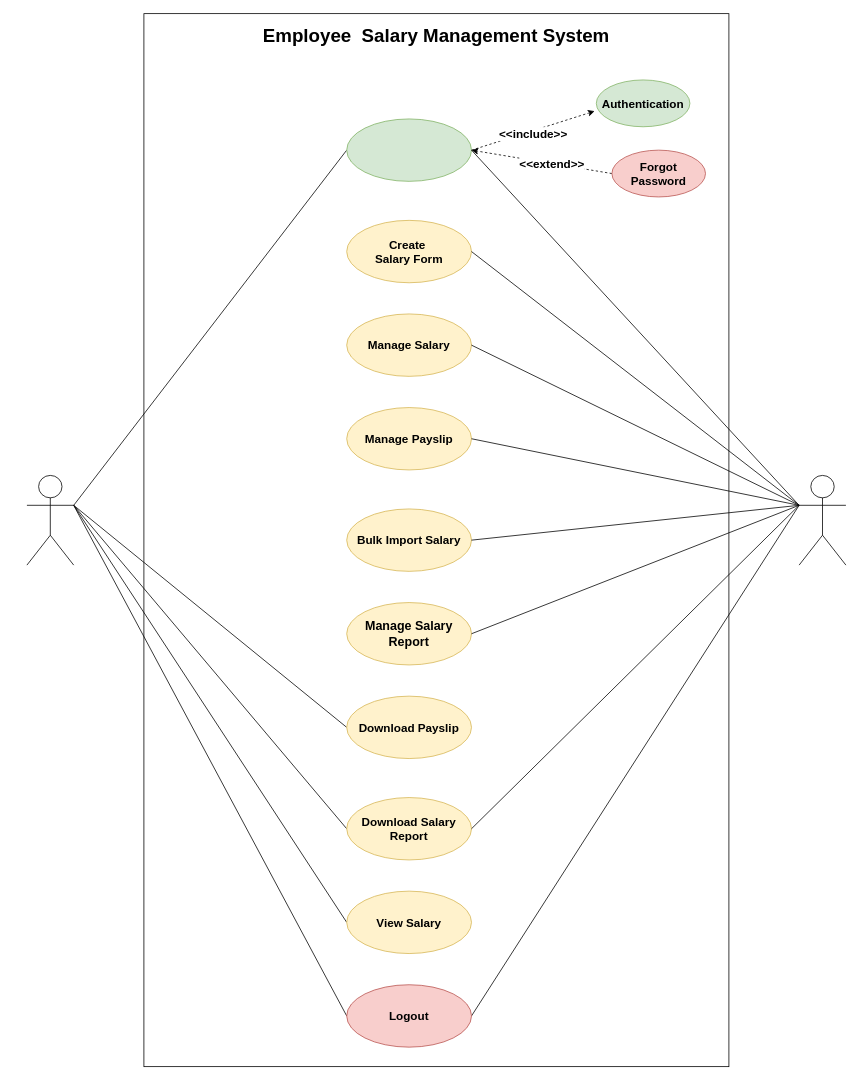
Image size: 860x1080. Some labels were removed from this diagram. The shapes that lost their labels are listed below. From the top down, each one's centre as x and y in pixels, then its label:
At pixel 409 149: "Login".
At pixel 50 520: "Employee".
At pixel 822 520: "HR".
